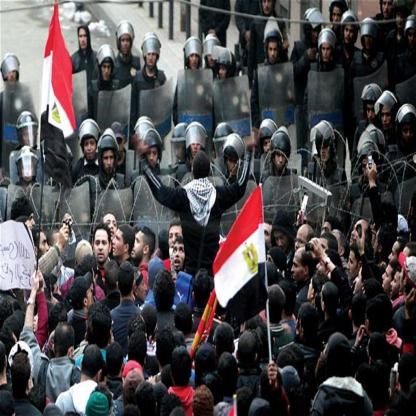face: (96, 228, 109, 262), (293, 252, 306, 283), (170, 226, 183, 254), (173, 244, 186, 270), (132, 231, 143, 259), (390, 270, 400, 300), (114, 230, 125, 257), (275, 231, 289, 252), (84, 137, 96, 161), (104, 146, 114, 174), (138, 273, 148, 300), (22, 160, 34, 182), (319, 239, 330, 263), (383, 265, 392, 293), (106, 216, 117, 238), (389, 242, 400, 264), (351, 225, 362, 246), (317, 256, 328, 277), (229, 153, 239, 176), (39, 232, 49, 255), (23, 129, 35, 148), (353, 268, 362, 293), (147, 146, 157, 168), (147, 46, 157, 68), (101, 60, 112, 80), (403, 123, 413, 145), (296, 232, 305, 255), (276, 150, 286, 170), (348, 251, 355, 279), (383, 105, 391, 129), (269, 41, 278, 62), (122, 33, 131, 53), (322, 222, 331, 241), (208, 48, 217, 67), (346, 22, 354, 43), (322, 143, 331, 161), (323, 44, 332, 62), (263, 225, 270, 247), (192, 139, 201, 156), (265, 139, 273, 158), (368, 105, 376, 124), (333, 7, 341, 25), (364, 33, 372, 50), (191, 50, 198, 69), (80, 29, 87, 48), (220, 64, 228, 80), (117, 138, 124, 156), (308, 280, 314, 300), (175, 145, 183, 160), (54, 283, 62, 298), (263, 1, 272, 14), (311, 27, 318, 42), (384, 3, 392, 16), (400, 267, 404, 291), (10, 68, 16, 82), (398, 16, 404, 29), (409, 29, 414, 43), (89, 288, 93, 305)
